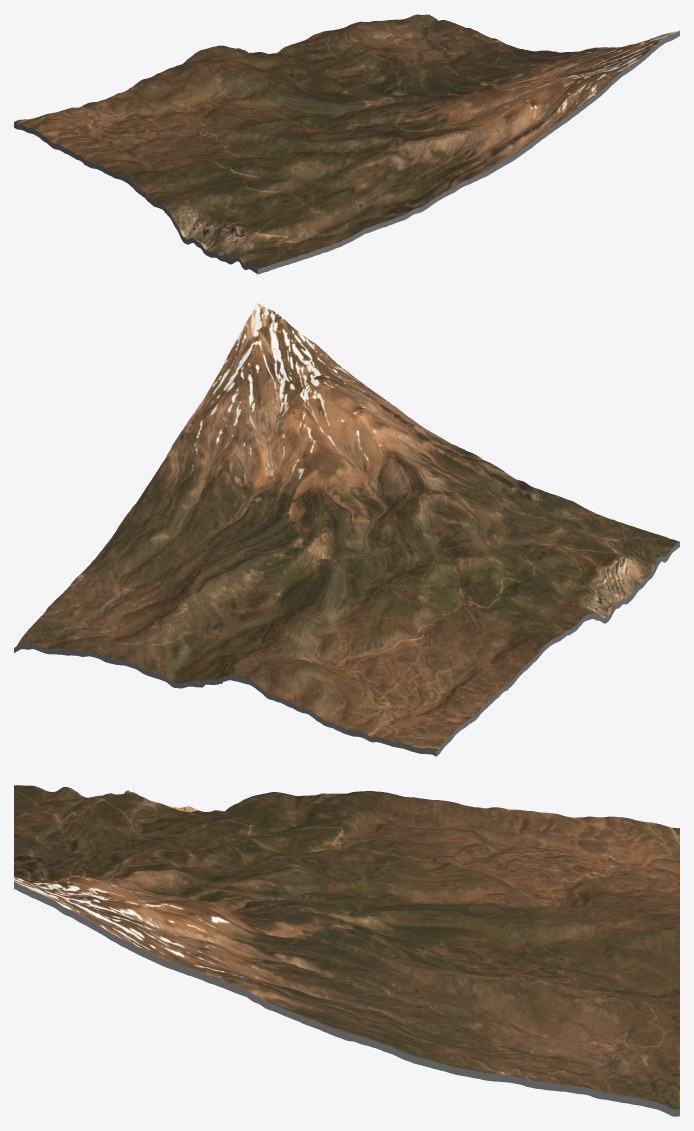
3 views of the same model, one above another, from view 1: azimuth 30°, elevation 25°; view 2: azimuth 150°, elevation 25°; view 3: azimuth 270°, elevation 25° (orthographic). The views are drawn at different scales.
Parts seen in each view (by area): view 1: terrain, skirt; view 2: terrain, skirt; view 3: terrain, skirt.
Part boxes in pixels (x1=…): terrain: x1=14, y1=14, x2=678, y2=268; skirt: x1=14, y1=31, x2=679, y2=274; terrain: x1=17, y1=303, x2=679, y2=751; skirt: x1=14, y1=542, x2=679, y2=756; terrain: x1=14, y1=785, x2=679, y2=1109; skirt: x1=14, y1=881, x2=679, y2=1116.
Bounding box in the file's own units: 7500 × 2945 × 7500.
Materials: 1 (1 with a texture image).
